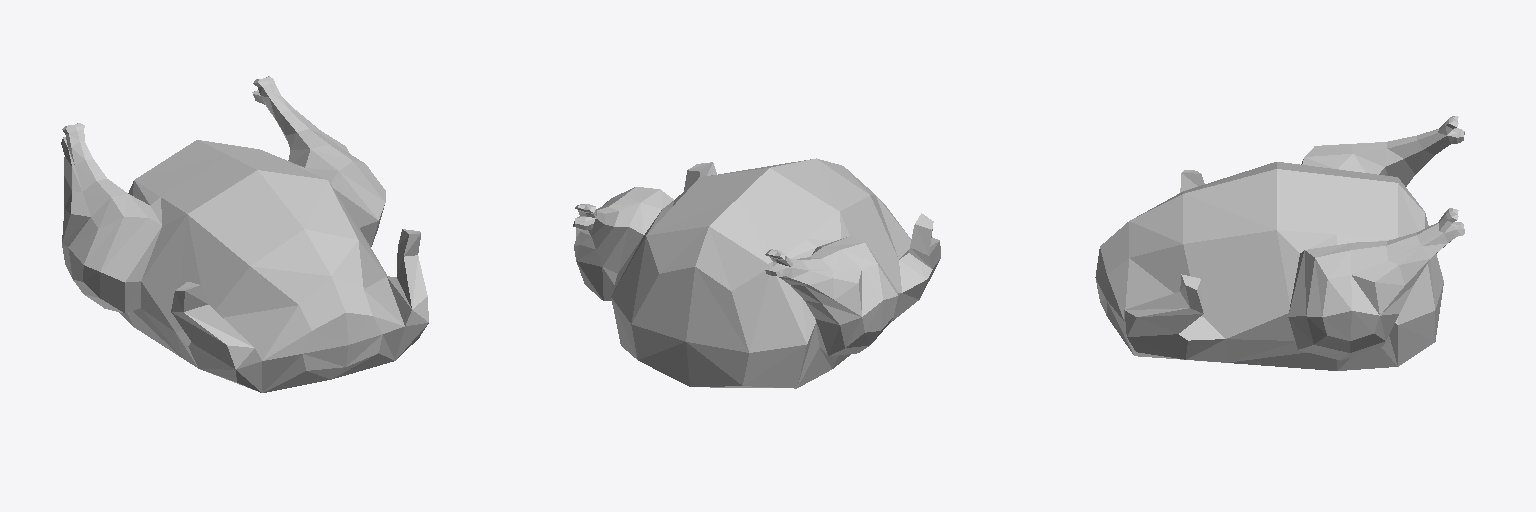
Rendered from Chicken_Banquet_geo.obj.
The picture shows the model from 3 angles: view 1: azimuth 30°, elevation 25°; view 2: azimuth 150°, elevation 25°; view 3: azimuth 270°, elevation 25°; orthographic projection.
Parts seen in each view (by area): view 1: REDO:Chicken; view 2: REDO:Chicken; view 3: REDO:Chicken.
Boxes of the visible parts, box(x1,y1,x2,y2) form: REDO:Chicken: box(61, 76, 428, 392); REDO:Chicken: box(573, 158, 940, 388); REDO:Chicken: box(1095, 116, 1464, 370).
Bounding box in the file's own units: 9.96 × 5.74 × 10.51.